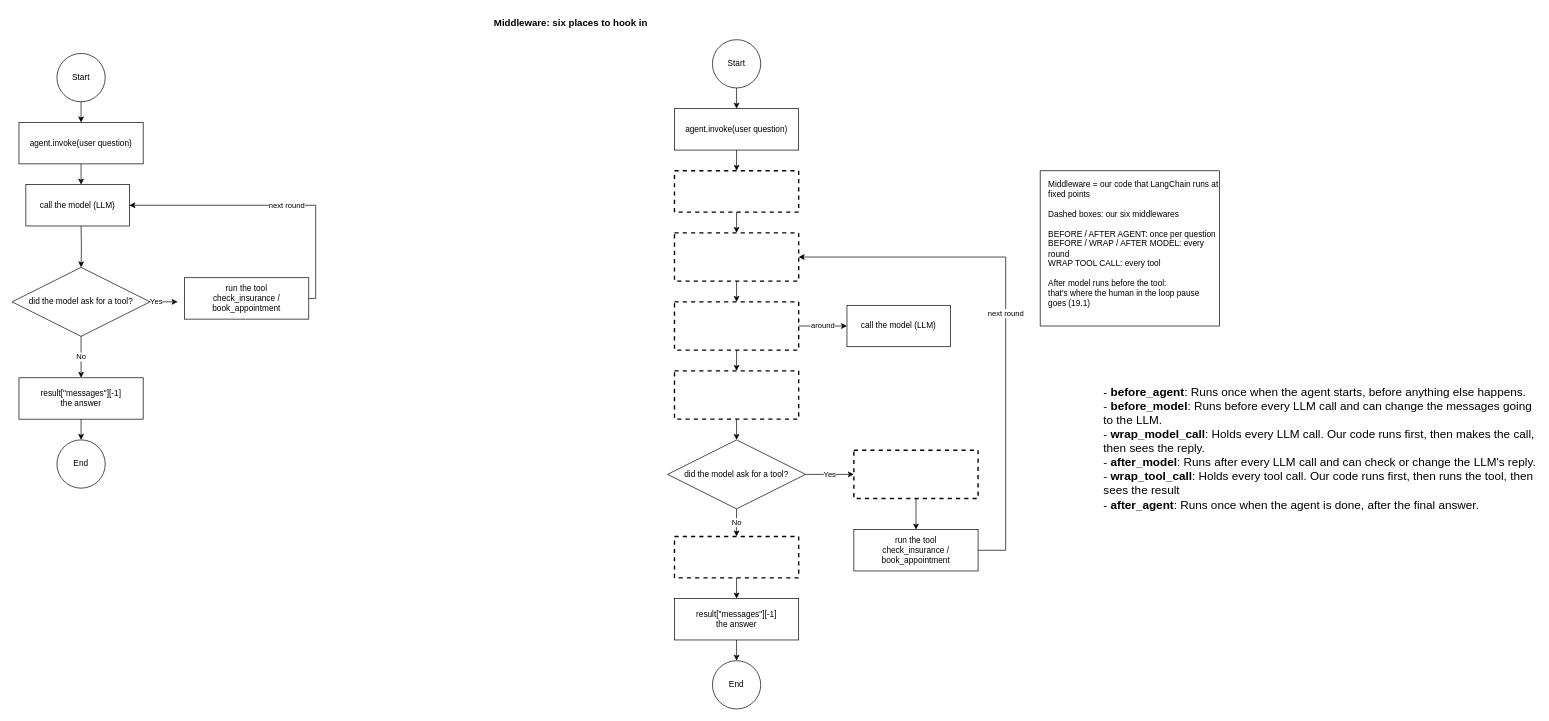
This 1549x721 diagram has some shape labels left out. The centre of each missing label's shape, as x and y in pixels:
"AFTER AGENT log_after_agent (once)" goes at point (736, 556).
"AFTER MODEL block_medical_advice checks the reply" goes at point (736, 395).
"BEFORE AGENT log_before_agent (once)" goes at point (736, 191).
"BEFORE MODEL redact_ssn: SSN to [REDACTED SSN]" goes at point (736, 257).
"WRAP MODEL CALL log before + after" goes at point (736, 326).
"WRAP TOOL CALL log before + after" goes at point (915, 474).
